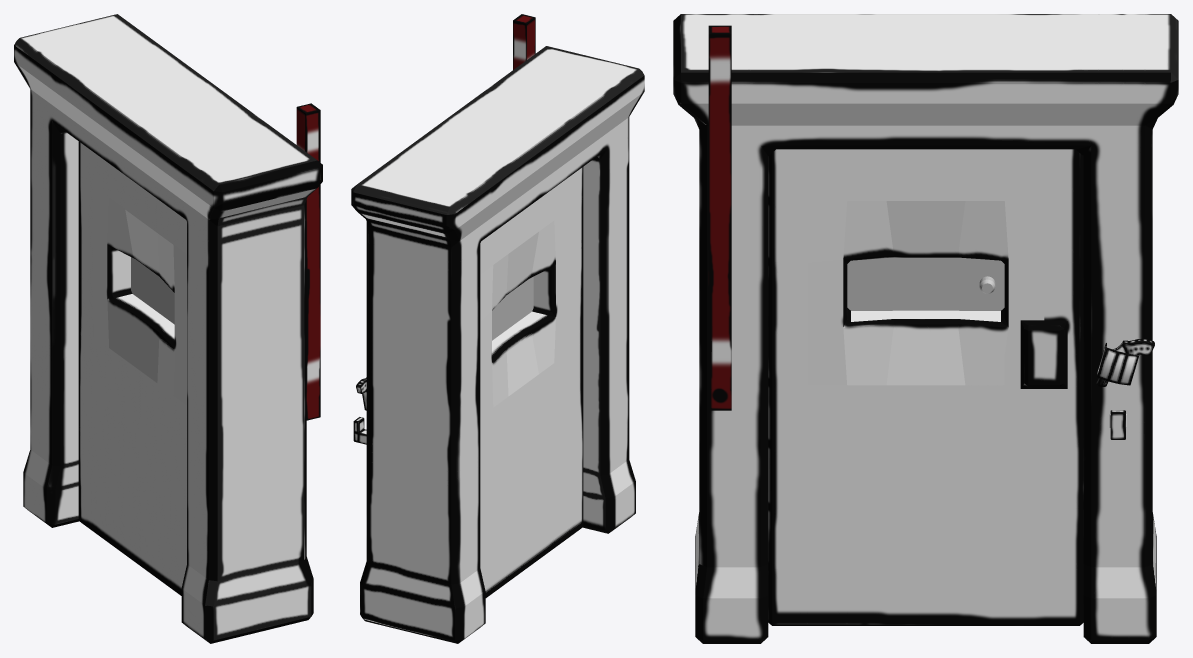
The model's file is Main Door.fbx.
3 renders of one model, left to right at view 1: azimuth 30°, elevation 25°; view 2: azimuth 150°, elevation 25°; view 3: azimuth 270°, elevation 25°, orthographic. The views are drawn at different scales.
Visible parts, largest first — view 1: Door Frame, Door, Bar, Latch; view 2: Door Frame, Door, Latch, Bar; view 3: Door, Door Frame, Bar, Latch.
Part boxes in pixels (left/top/right/bottom): Door Frame: left=14, top=14, right=322, bottom=643; Door: left=78, top=141, right=186, bottom=595; Bar: left=296, top=103, right=320, bottom=420; Latch: left=131, top=257, right=174, bottom=324; Door Frame: left=351, top=46, right=644, bottom=643; Door: left=480, top=167, right=583, bottom=597; Latch: left=492, top=276, right=533, bottom=340; Bar: left=513, top=14, right=535, bottom=69; Door: left=768, top=149, right=1083, bottom=625; Door Frame: left=673, top=14, right=1178, bottom=643; Bar: left=708, top=25, right=731, bottom=410; Latch: left=847, top=257, right=1004, bottom=310.
Size of the model in its own units: 230 by 887 by 658.
